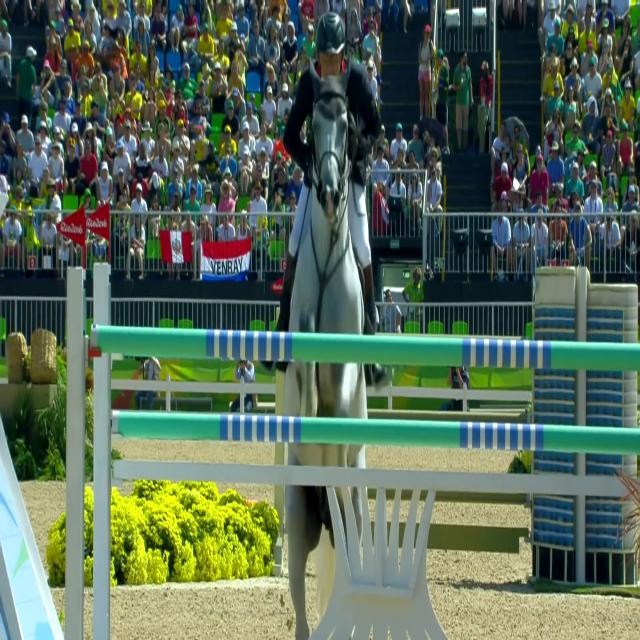Horse Jumping: (258, 48, 389, 620)
Horse Rider: (288, 1, 392, 328)
